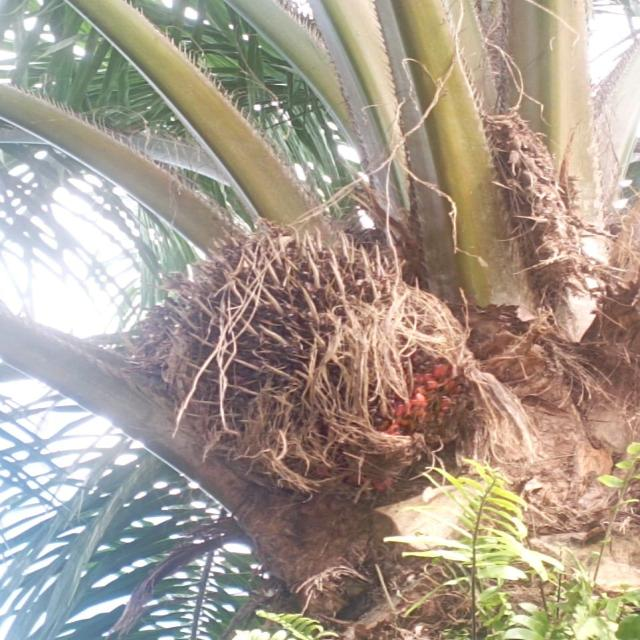fraksi 00: (121, 204, 500, 491)
